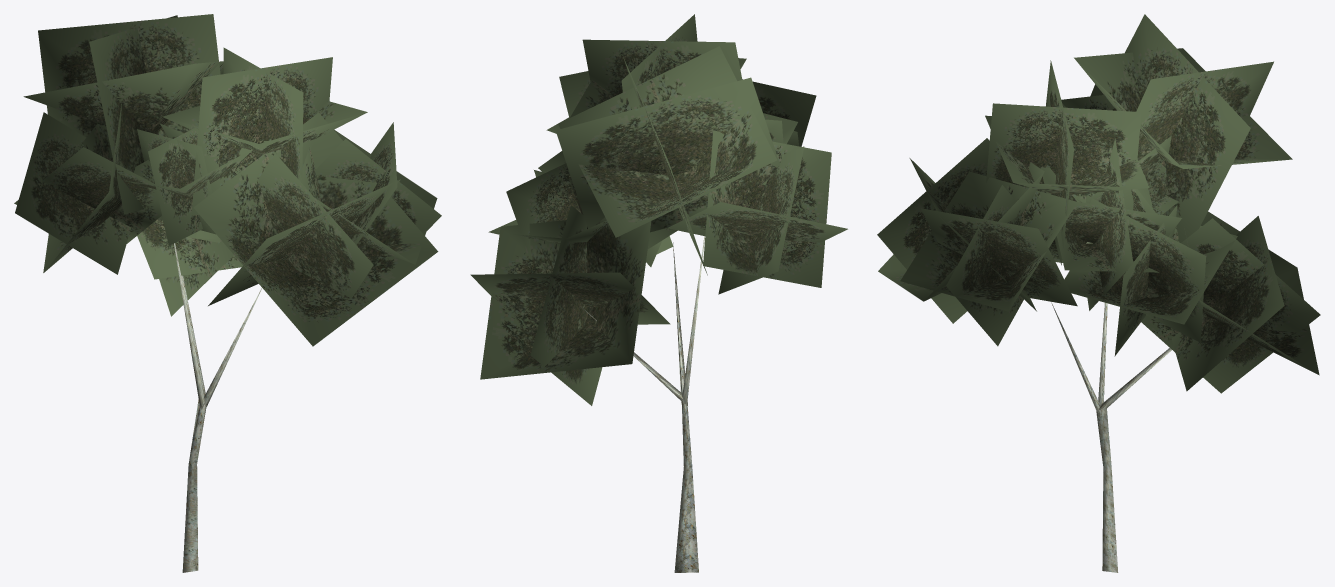
The model's file is ever_eucalyptus_tall_l3.fbx.
The picture shows the model from 3 angles, left to right: view 1: azimuth 30°, elevation 25°; view 2: azimuth 150°, elevation 25°; view 3: azimuth 270°, elevation 25°; orthographic projection. The views are drawn at different scales.
Visible parts, largest first — view 1: mesh_node; view 2: mesh_node; view 3: mesh_node.
Part boxes in pixels (x1,y1,x2,y2): mesh_node: (14,14,441,572); mesh_node: (470,14,847,572); mesh_node: (877,14,1320,572).
Bounding box in the file's own units: 16.91 × 23.68 × 18.47.
